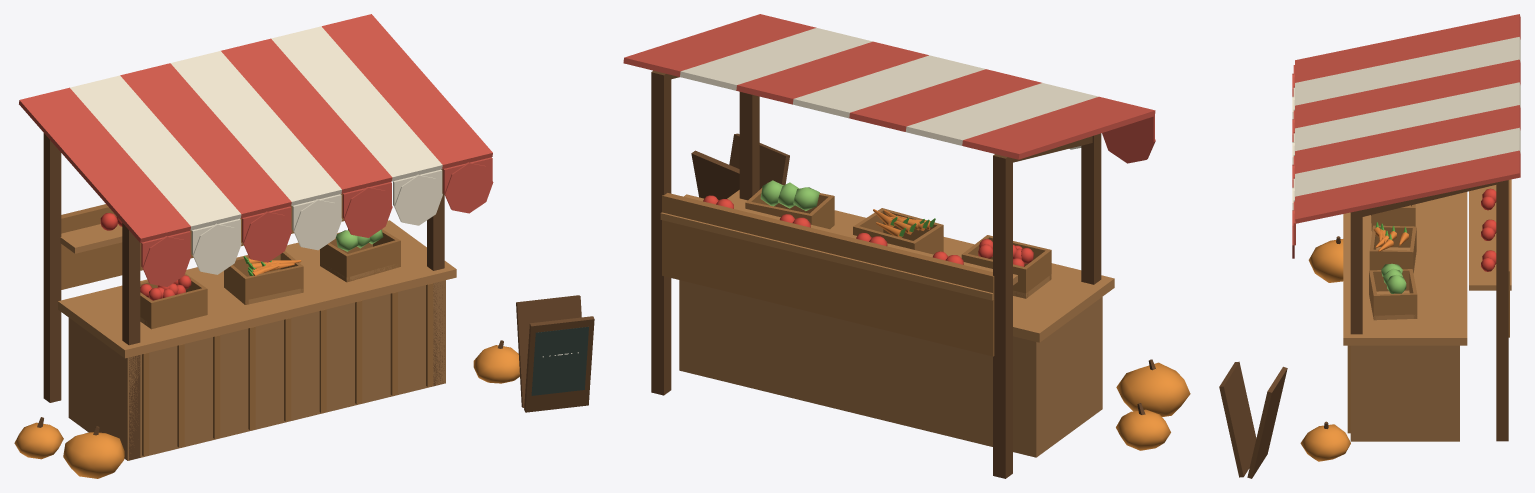
Rendered from stall_produce.glb.
The picture shows the model from 3 angles, left to right: view 1: azimuth 30°, elevation 25°; view 2: azimuth 150°, elevation 25°; view 3: azimuth 270°, elevation 25°; orthographic projection. The views are drawn at different scales.
Parts seen in each view (by area): view 1: Market_Stall_Produce; view 2: Market_Stall_Produce; view 3: Market_Stall_Produce.
Part boxes in pixels (box(x1,y1,x2,y2)): Market_Stall_Produce: box(14, 14, 594, 478); Market_Stall_Produce: box(623, 14, 1190, 478); Market_Stall_Produce: box(1219, 14, 1520, 478).
Size of the model in its own units: 4.33 by 2.51 by 2.48.
